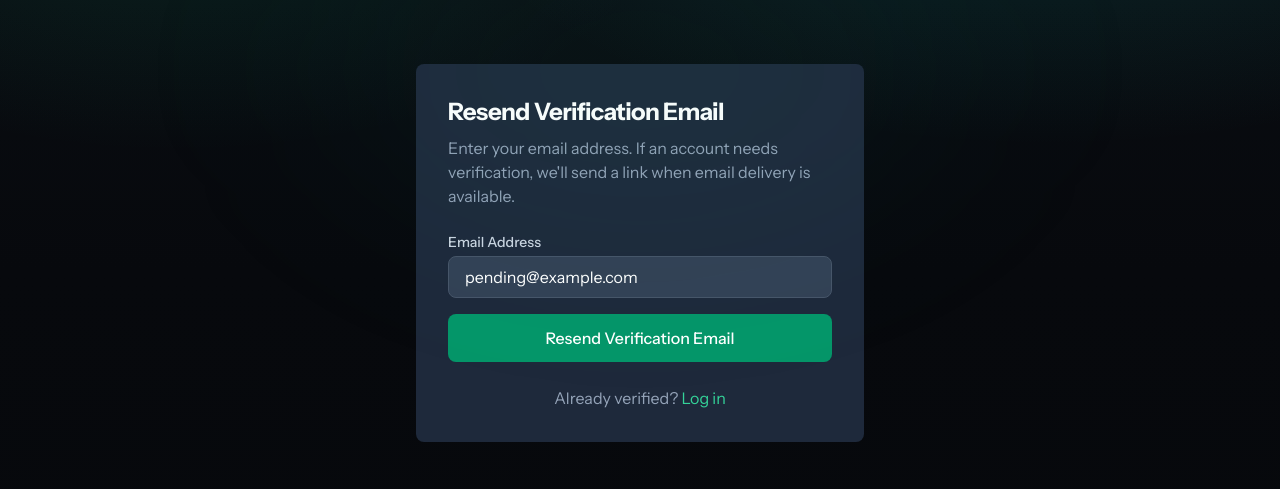
Test: ResendVerificationPage › lets the user return to the resend form after the account-neutral response
Click the button "Resend Verification Email" at (640, 338), box [448,314,832,362]
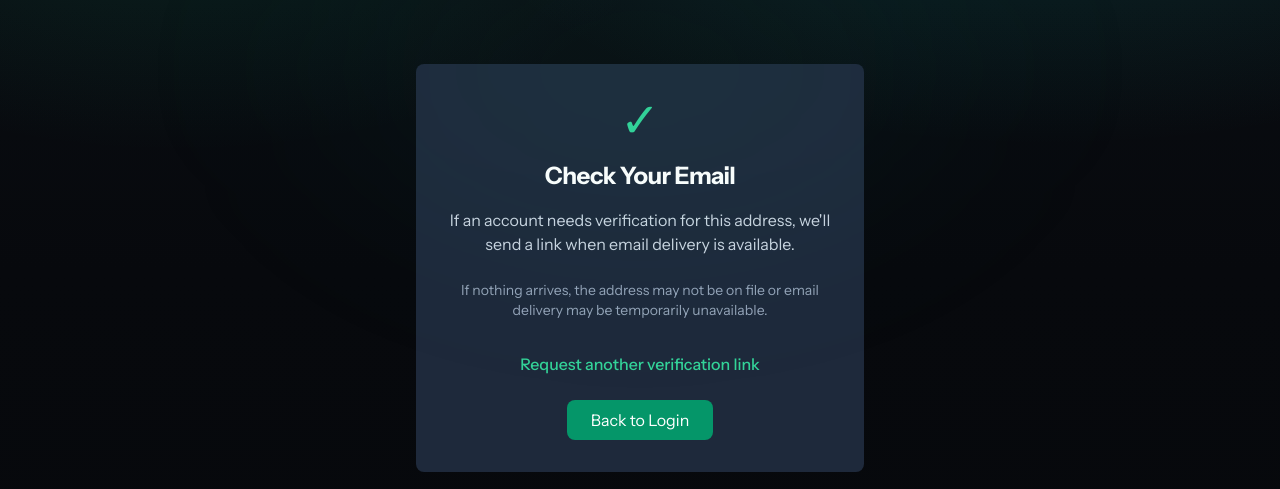
Click the button "Request another verification link" at (640, 364), box [448,344,832,384]
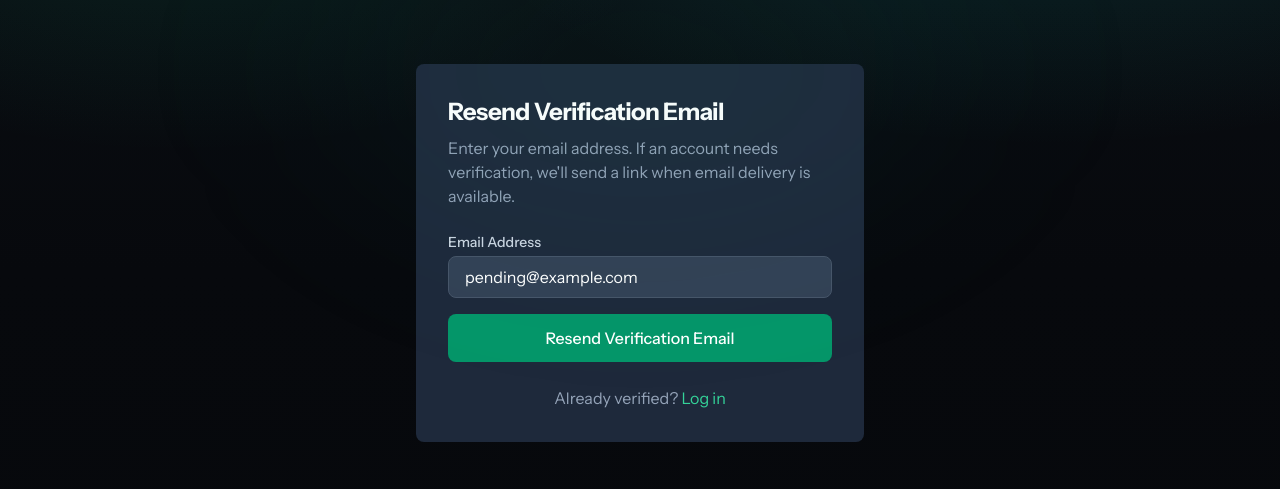
Result: the button "Resend Verification Email" is shown at [448,314,832,362]
